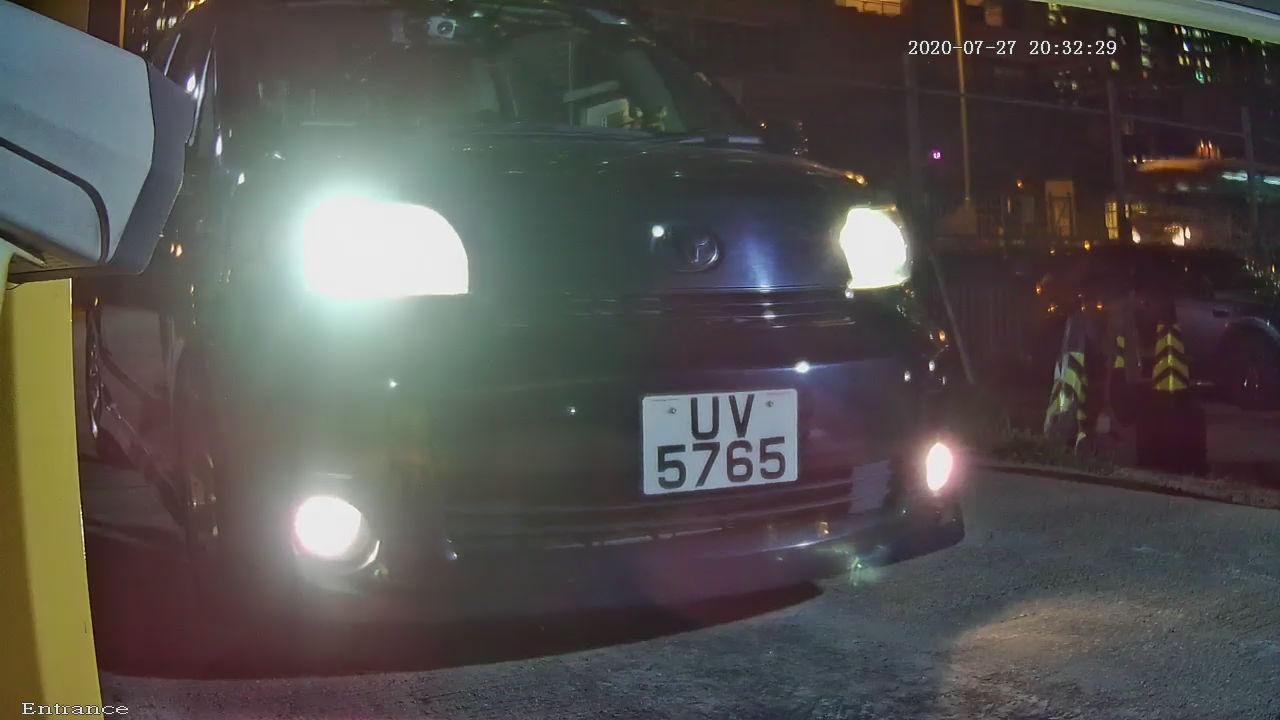privatecar: (161, 10, 978, 666)
